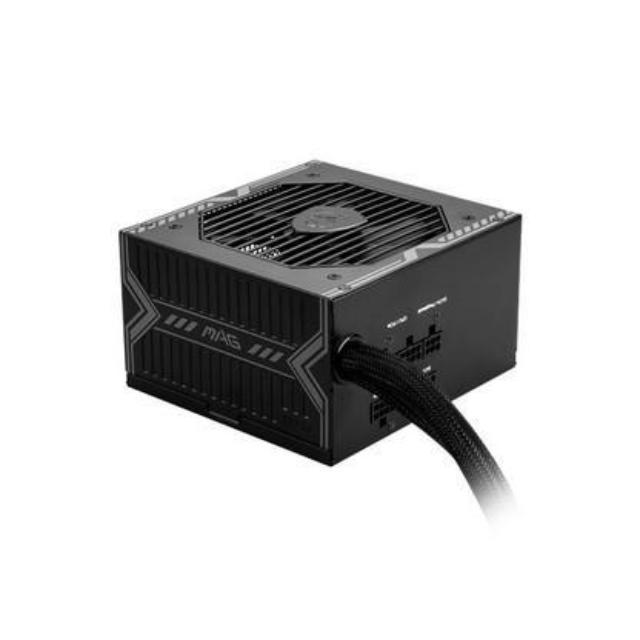PSU: (104, 153, 524, 476)
